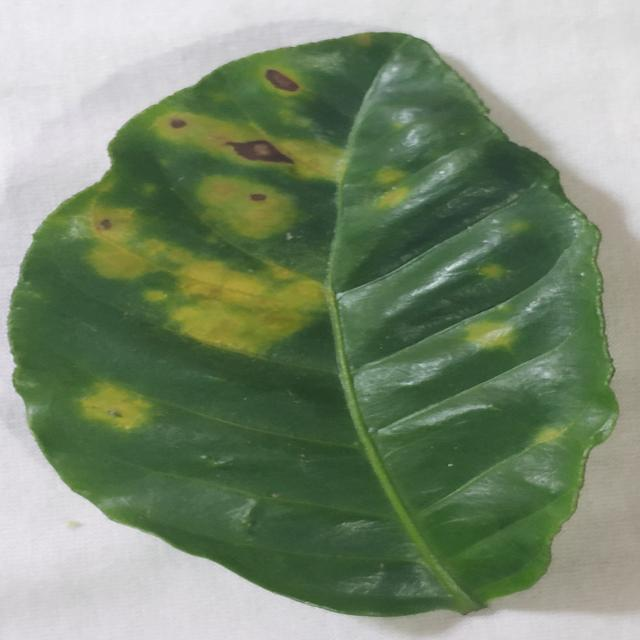Enfermedad-Roya: (12, 31, 620, 620)
